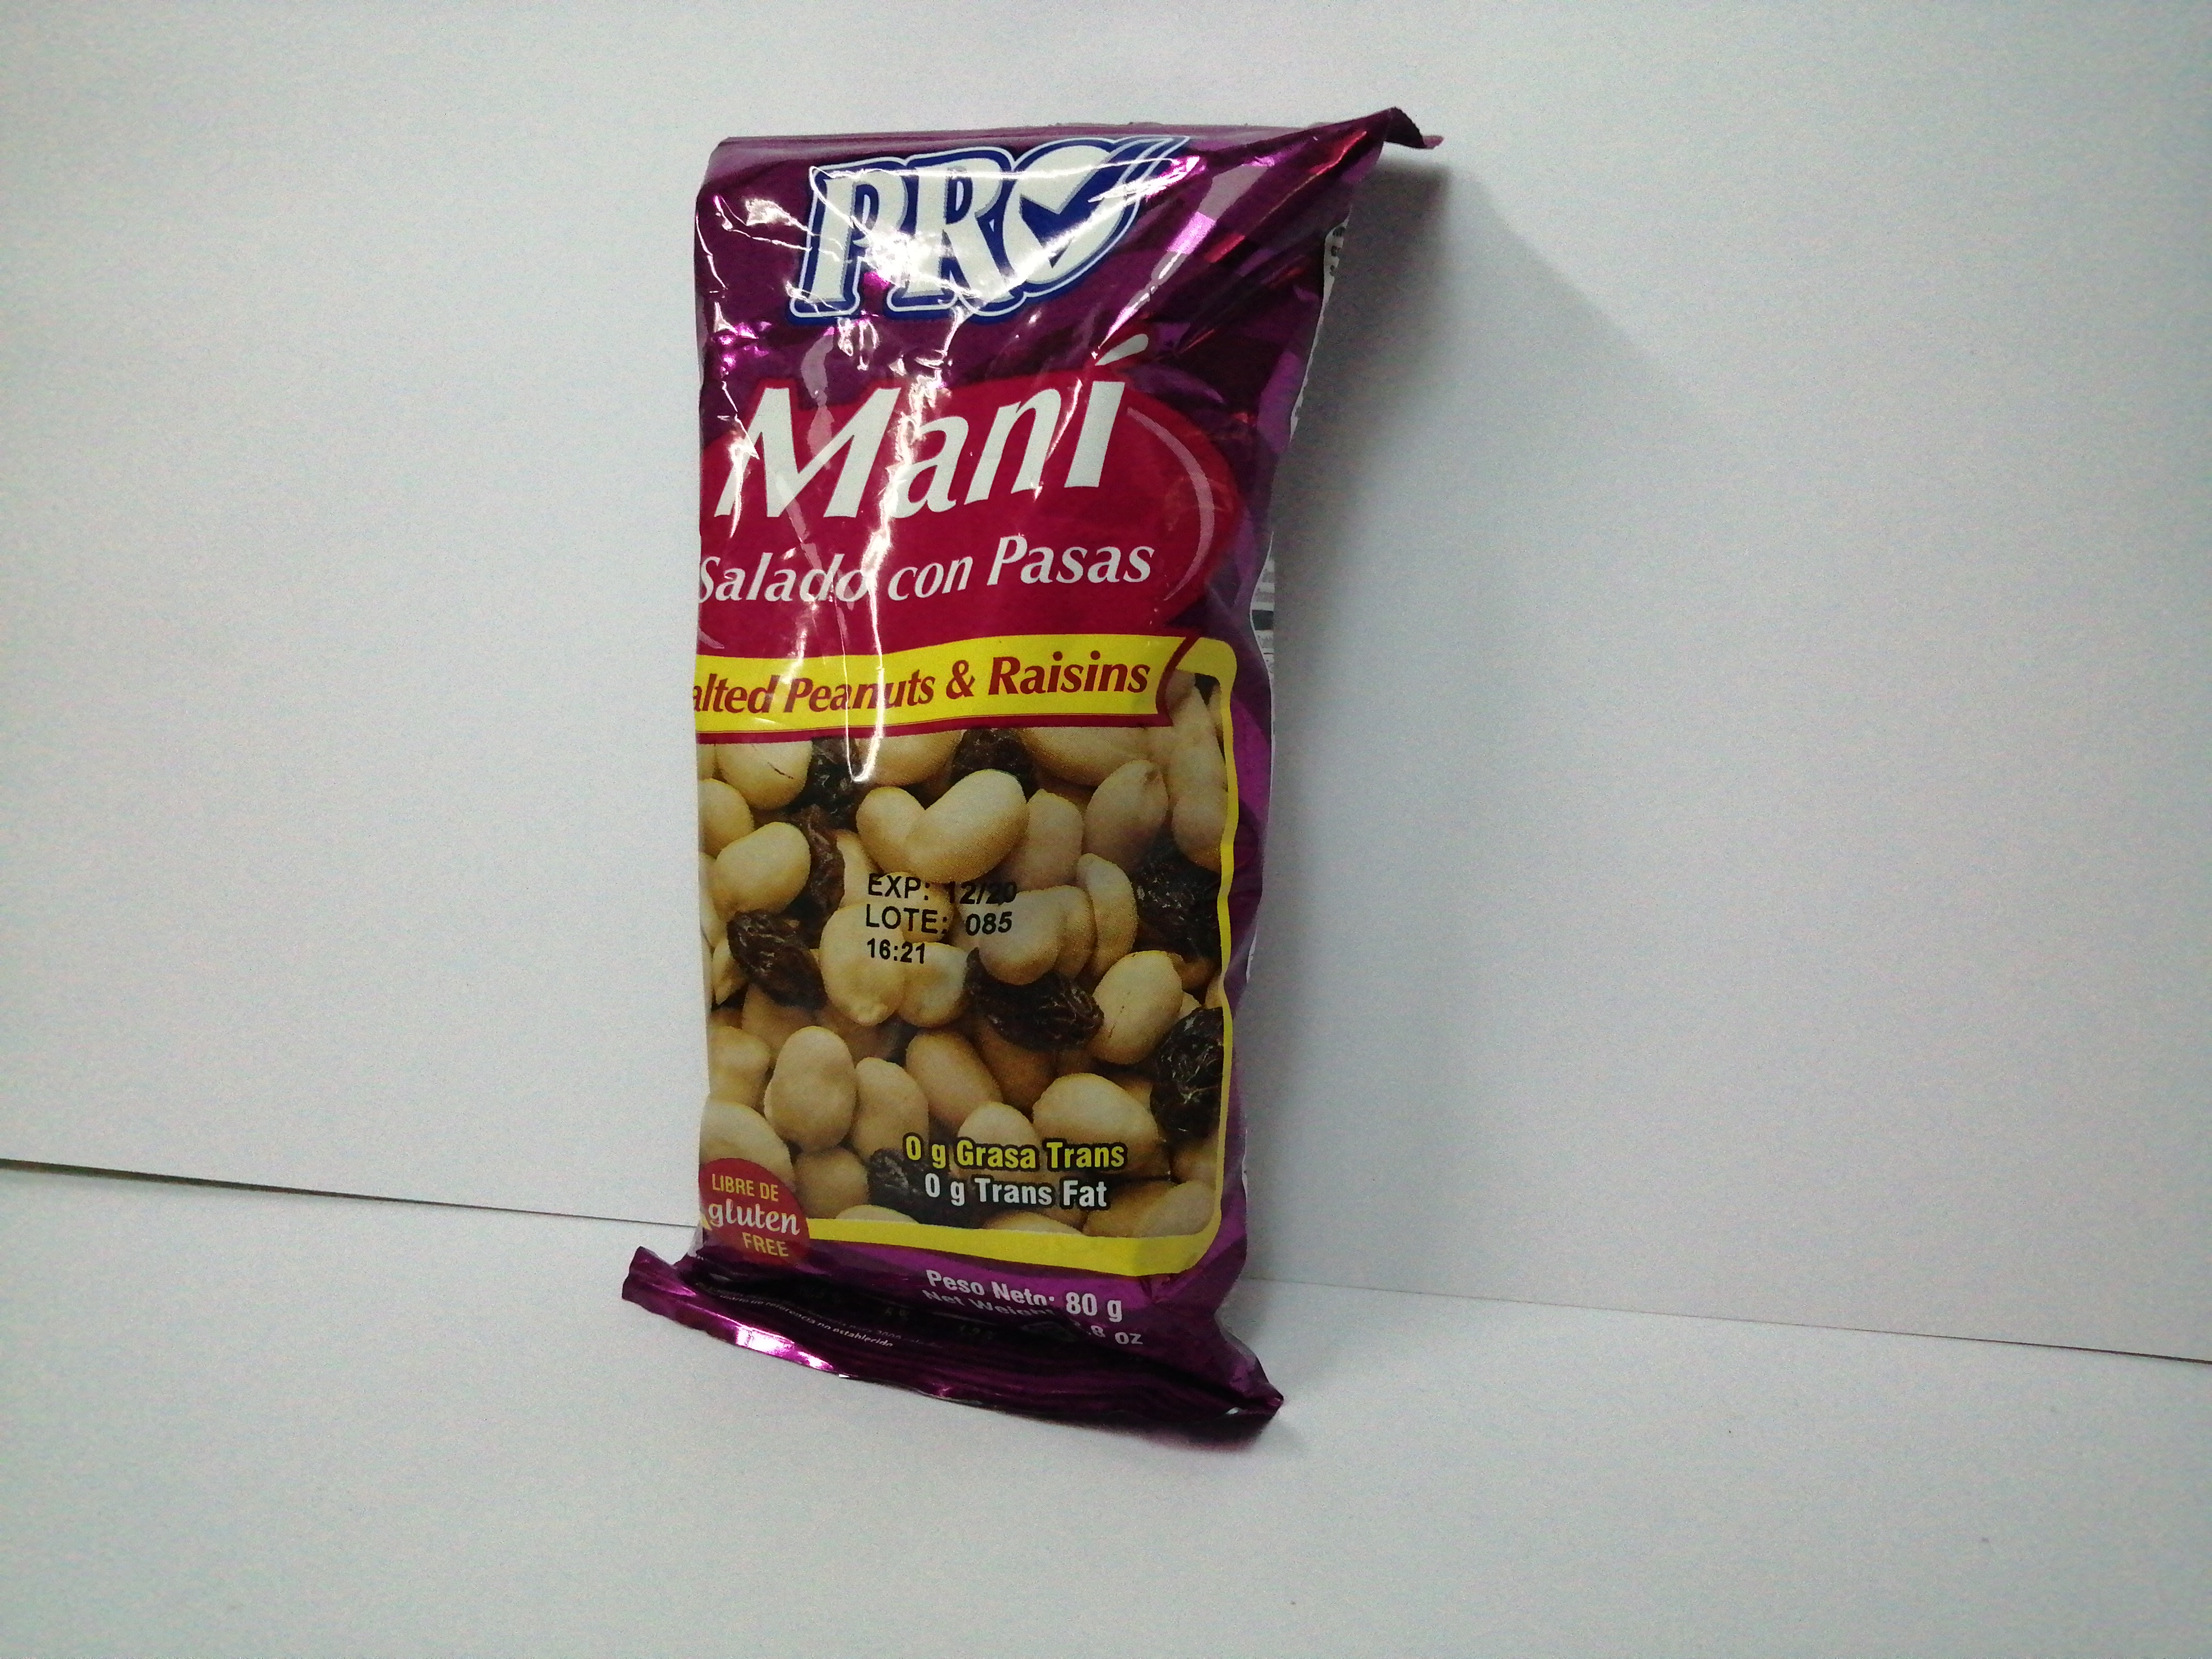mani: (631, 110, 1402, 1432)
